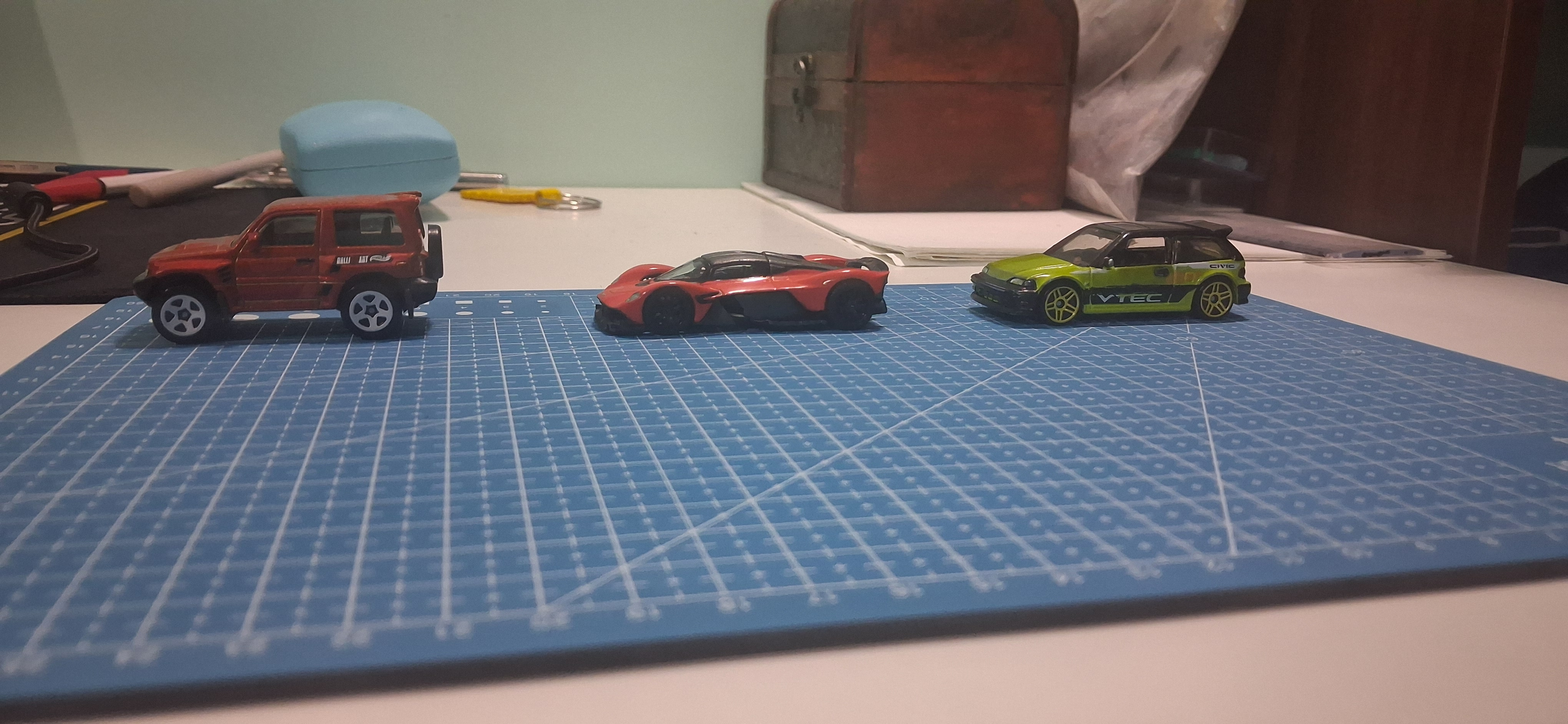Aston_Martin_Valkyrie: (534, 231, 911, 363)
Honda_Civic: (966, 187, 1283, 365)
Mitsubishi_Pajero_Evolution: (114, 170, 454, 369)
